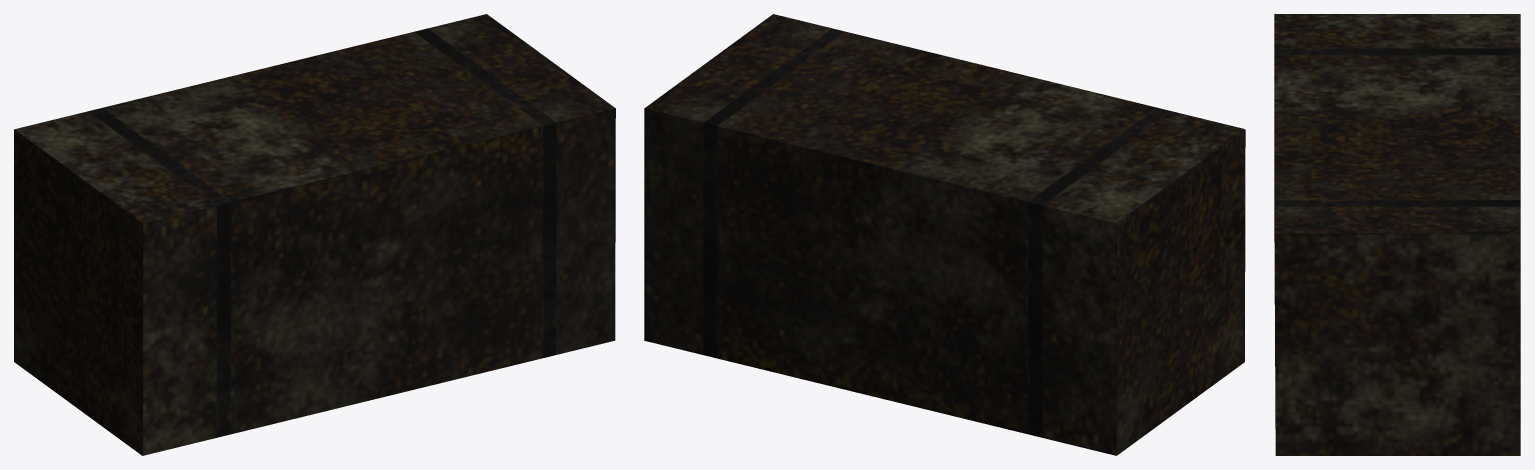
Rendered from SM_EC_Horror_Hay_8.fbx.
The picture shows the model from 3 angles, left to right: view 1: azimuth 30°, elevation 25°; view 2: azimuth 150°, elevation 25°; view 3: azimuth 270°, elevation 25°; orthographic projection. The views are drawn at different scales.
Parts seen in each view (by area): view 1: SM_EC_Horror_Hay_8; view 2: SM_EC_Horror_Hay_8; view 3: SM_EC_Horror_Hay_8.
Part boxes in pixels (<box>): SM_EC_Horror_Hay_8: <box>14,14,615,455</box>; SM_EC_Horror_Hay_8: <box>644,14,1245,455</box>; SM_EC_Horror_Hay_8: <box>1274,14,1520,455</box>.
Bounding box in the file's own units: 1.95 × 0.9209 × 0.9165.
